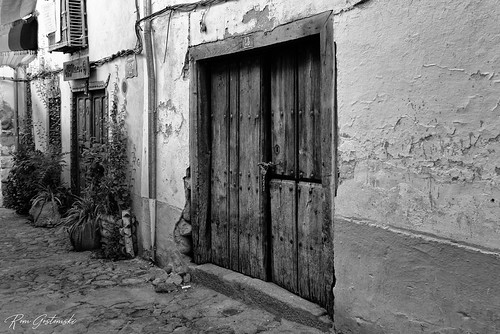building: (1, 1, 500, 331)
door: (194, 21, 332, 315), (73, 90, 104, 207)
